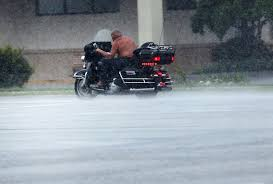motorcycle: (67, 29, 177, 96)
